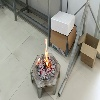fire: (44, 38, 51, 69), (37, 57, 40, 65)
